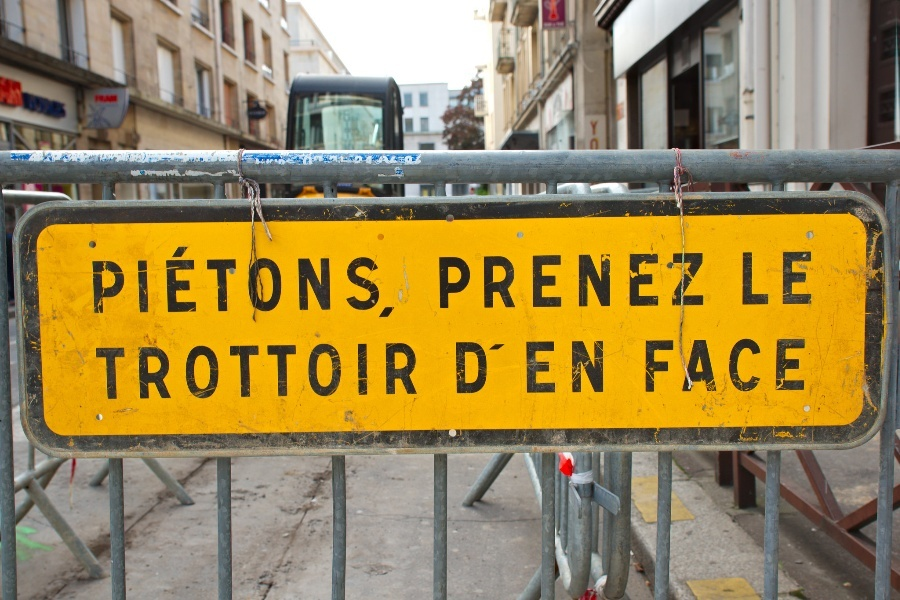text: (97, 245, 112, 324), (113, 245, 128, 324), (129, 245, 144, 324), (145, 245, 160, 324), (161, 245, 176, 324), (177, 245, 192, 324), (193, 245, 208, 324), (209, 245, 224, 324), (225, 245, 240, 324), (241, 245, 256, 324), (257, 245, 272, 324), (273, 245, 288, 324), (289, 245, 304, 324), (305, 245, 320, 324), (321, 245, 336, 324), (337, 245, 352, 324), (353, 245, 368, 324), (369, 245, 384, 324), (97, 343, 112, 402), (113, 343, 128, 402), (129, 343, 144, 402), (145, 343, 160, 402), (161, 343, 176, 402), (177, 343, 192, 402), (193, 343, 208, 402), (209, 343, 224, 402), (225, 343, 240, 402), (241, 343, 256, 402), (257, 343, 272, 402), (273, 343, 288, 402), (289, 343, 304, 402), (305, 343, 320, 402), (321, 343, 336, 402), (337, 343, 352, 402), (353, 343, 368, 402), (369, 343, 384, 402), (385, 343, 400, 402), (401, 343, 416, 402), (449, 251, 464, 310), (465, 251, 480, 310), (481, 251, 496, 310), (497, 251, 512, 310), (513, 251, 528, 310), (529, 251, 544, 310), (545, 251, 560, 310), (561, 251, 576, 310), (577, 251, 592, 310), (593, 251, 608, 310), (609, 251, 624, 310), (625, 251, 640, 310), (641, 251, 656, 310), (657, 251, 672, 310), (673, 251, 688, 310), (689, 251, 704, 310), (385, 245, 396, 324), (753, 251, 768, 306), (769, 251, 784, 306), (785, 251, 800, 306), (465, 340, 480, 395), (481, 340, 496, 395), (497, 340, 512, 395), (513, 340, 528, 395), (529, 340, 544, 395), (545, 340, 560, 395), (561, 340, 576, 395), (577, 340, 592, 395), (657, 338, 672, 392), (673, 338, 688, 392), (689, 338, 704, 392), (705, 338, 720, 392), (721, 338, 736, 392), (737, 338, 752, 392), (753, 338, 768, 392), (769, 338, 784, 392), (785, 338, 800, 392), (593, 340, 606, 395), (801, 251, 813, 306), (644, 338, 656, 392), (453, 340, 464, 395), (438, 251, 448, 310), (742, 251, 752, 306), (2, 77, 16, 110), (33, 91, 48, 119), (49, 91, 64, 119), (342, 109, 352, 150), (91, 245, 96, 324), (17, 77, 26, 110), (801, 338, 806, 392), (593, 120, 601, 150), (257, 153, 272, 167), (273, 153, 288, 167), (289, 153, 304, 167), (305, 153, 320, 167), (321, 153, 336, 167), (337, 153, 352, 167), (353, 153, 368, 167), (369, 153, 384, 167), (385, 153, 400, 167), (401, 153, 416, 167), (26, 91, 32, 119), (97, 94, 112, 104), (588, 120, 592, 150), (94, 343, 96, 402), (417, 343, 419, 402), (545, 22, 560, 28), (417, 153, 423, 167), (65, 91, 68, 119), (113, 94, 120, 104), (257, 110, 267, 116), (705, 251, 706, 310), (248, 110, 256, 116), (353, 109, 354, 150), (561, 22, 566, 28), (94, 94, 96, 104), (255, 153, 256, 167), (543, 22, 544, 28)
